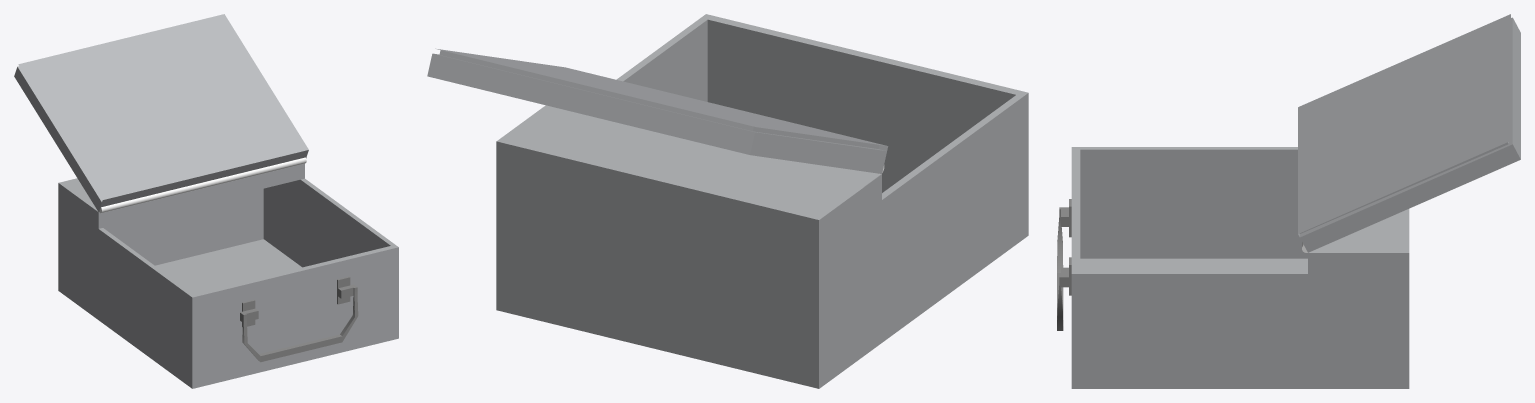
Rendered from Safety_Box_Open.fbx.
3 views of the same model, side by side, from view 1: azimuth 30°, elevation 25°; view 2: azimuth 150°, elevation 25°; view 3: azimuth 270°, elevation 25° (orthographic). The views are drawn at different scales.
Visible parts, largest first — view 1: Safety_Box, Lid; view 2: Safety_Box, Lid; view 3: Safety_Box, Lid.
Boxes of the visible parts, <box> form: Safety_Box: <box>58,163,398,388</box>; Lid: <box>14,14,308,213</box>; Safety_Box: <box>496,14,1028,388</box>; Lid: <box>427,48,888,174</box>; Safety_Box: <box>1057,147,1409,388</box>; Lid: <box>1298,14,1520,252</box>.
Bounding box in the file's own units: 0.3835 × 0.3497 × 0.5927.
Materials: 2 (2 with a texture image).
